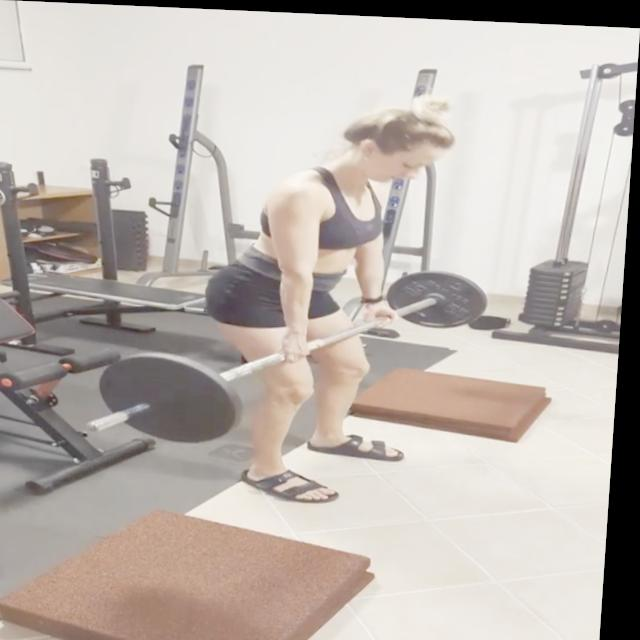barbell: (85, 344, 254, 447)
